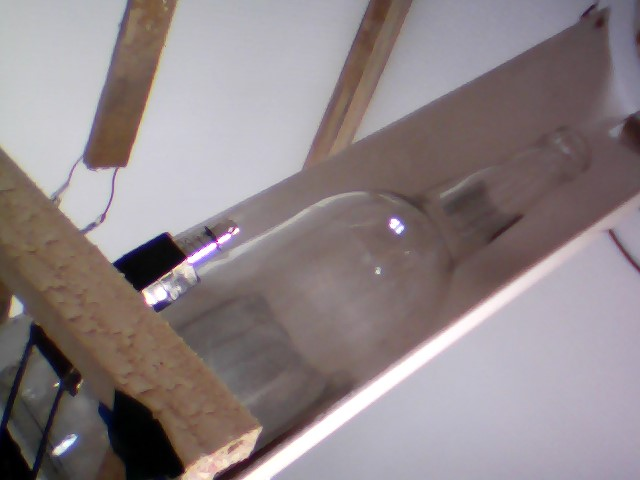vidrio: (204, 110, 593, 454)
